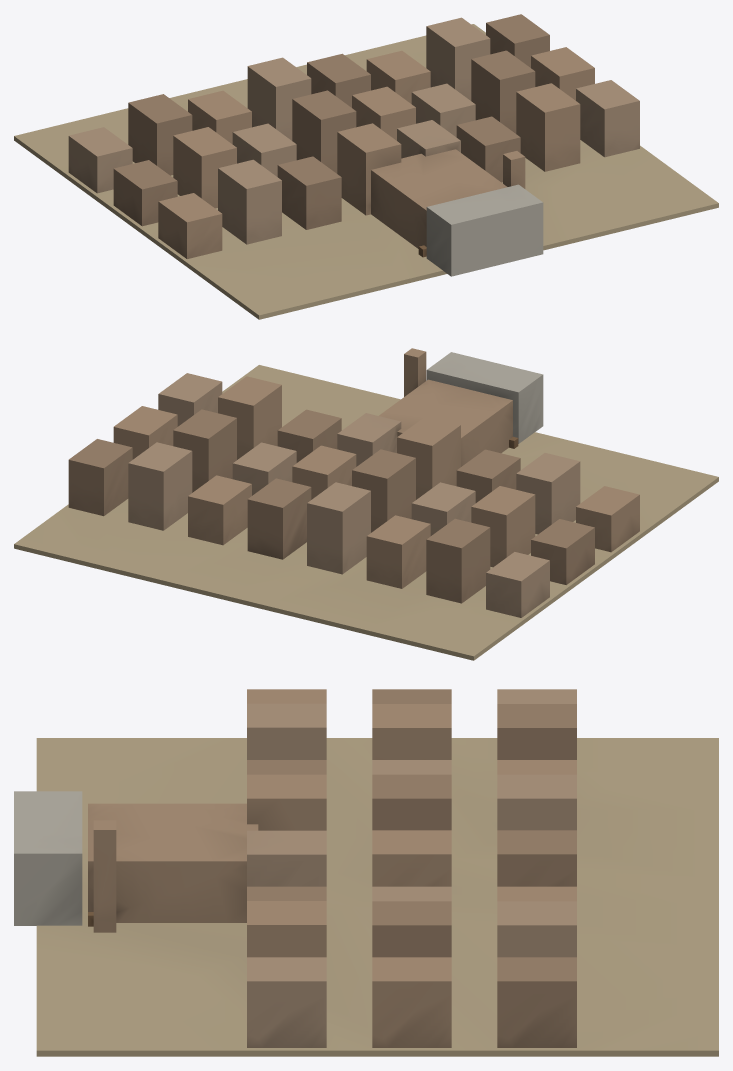
The model's file is ghetto.glb.
The picture shows the model from 3 angles, top to bottom: view 1: azimuth 30°, elevation 25°; view 2: azimuth 150°, elevation 25°; view 3: azimuth 270°, elevation 25°; orthographic projection. The views are drawn at different scales.
Visible parts, largest first — view 1: p2_houses, p0_platform, p1_propylon; view 2: p2_houses, p0_platform, p1_propylon; view 3: p0_platform, p2_houses, p1_propylon.
Boxes of the visible parts, box(x1,y1,x2,y2) form: p2_houses: box(68, 14, 639, 258); p0_platform: box(14, 24, 718, 319); p1_propylon: box(426, 184, 543, 276); p2_houses: box(68, 348, 639, 617); p0_platform: box(14, 365, 718, 660); p1_propylon: box(426, 352, 543, 443); p0_platform: box(36, 738, 718, 1056); p2_houses: box(88, 689, 576, 1047); p1_propylon: box(14, 791, 82, 925).
Bounding box in the file's own units: 130 × 21.15 × 124.
